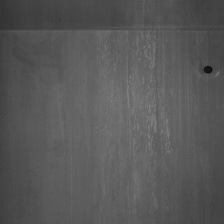punching_hole: (1, 20, 222, 38), (202, 62, 213, 76)
